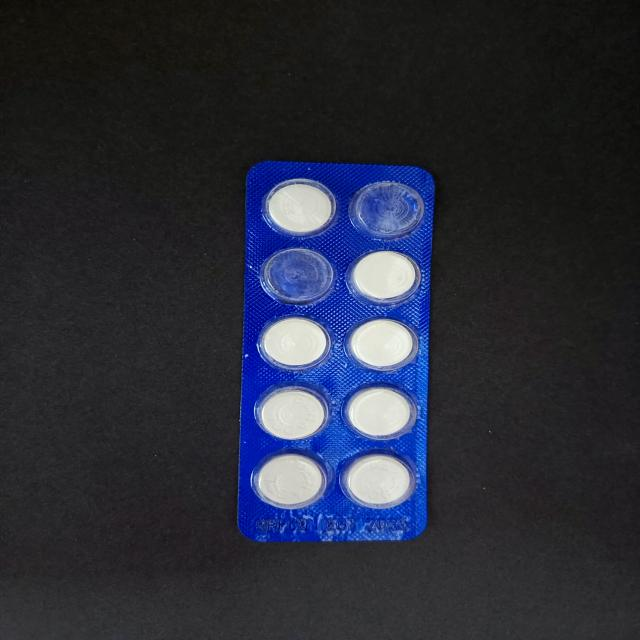defect: (254, 243, 338, 307), (349, 178, 431, 239)
